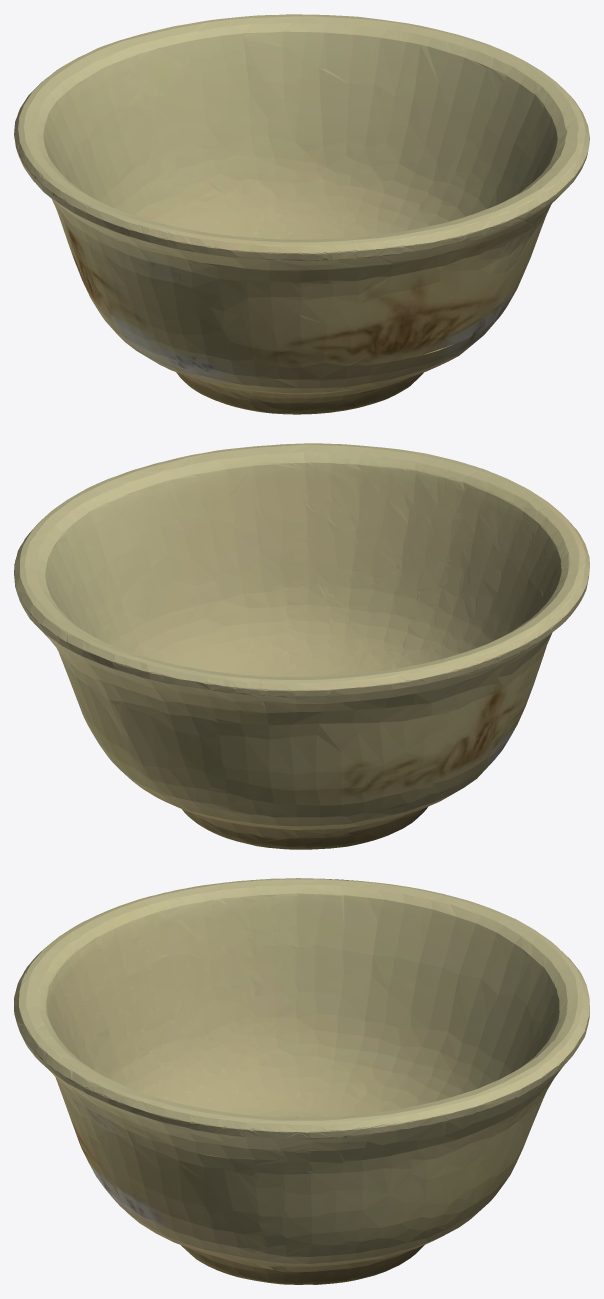
3 views of the same model, one above another, from view 1: azimuth 30°, elevation 25°; view 2: azimuth 150°, elevation 25°; view 3: azimuth 270°, elevation 25° (orthographic).
Visible parts, largest first — view 1: world; view 2: world; view 3: world.
Boxes of the visible parts, x1,y1,x2,y2 form: world: (14,14,589,414); world: (14,443,589,849); world: (14,878,589,1284).
Size of the model in its own units: 1 by 0.4612 by 0.9995.
1 material, 1 textured.
